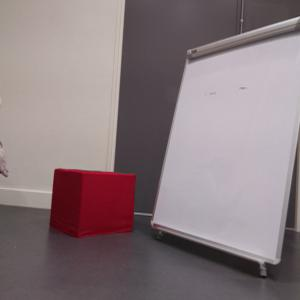big: (156, 20, 300, 271)
medium: (50, 168, 136, 236)
